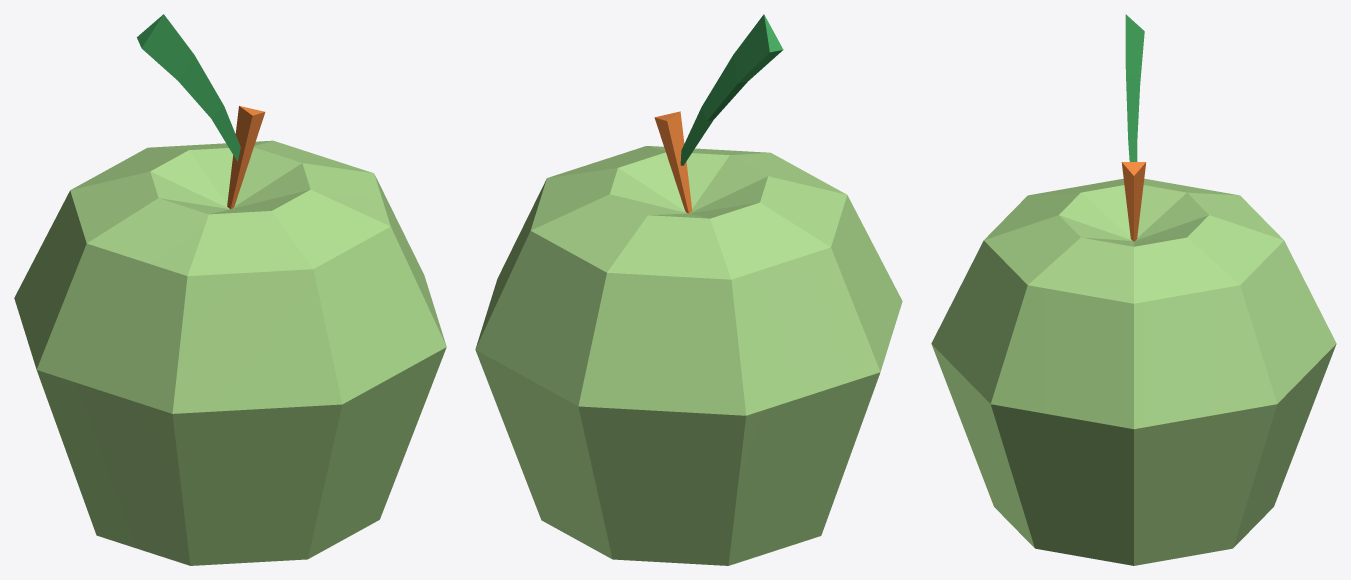
Rendered from Apple.fbx.
3 views of the same model, side by side, from view 1: azimuth 30°, elevation 25°; view 2: azimuth 150°, elevation 25°; view 3: azimuth 270°, elevation 25° (orthographic). The views are drawn at different scales.
Visible parts, largest first — view 1: Sphere001; view 2: Sphere001; view 3: Sphere001.
Part boxes in pixels (x1,y1,x2,y2): Sphere001: (14,14,446,565); Sphere001: (475,14,902,565); Sphere001: (931,14,1336,565).
Bounding box in the file's own units: 3 × 3.89 × 3.
